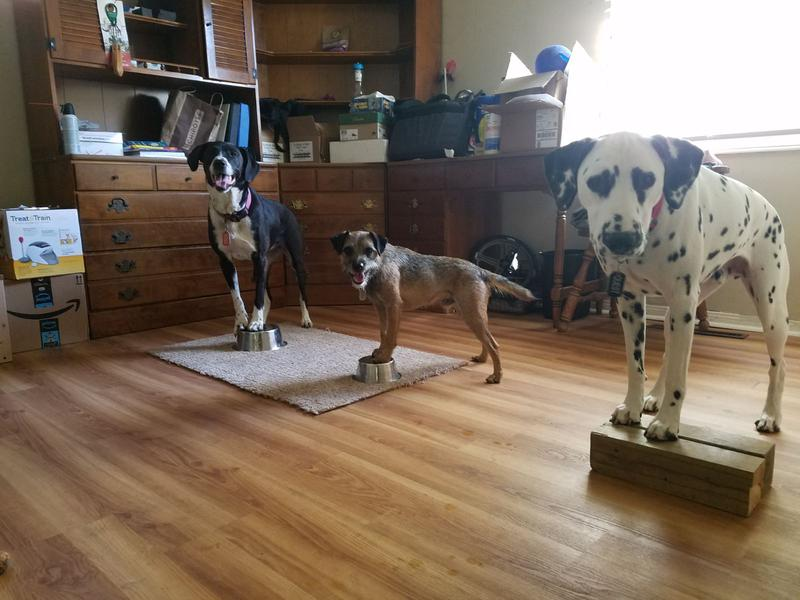dog_stand: (543, 127, 791, 445), (328, 225, 542, 390), (182, 136, 318, 352)
